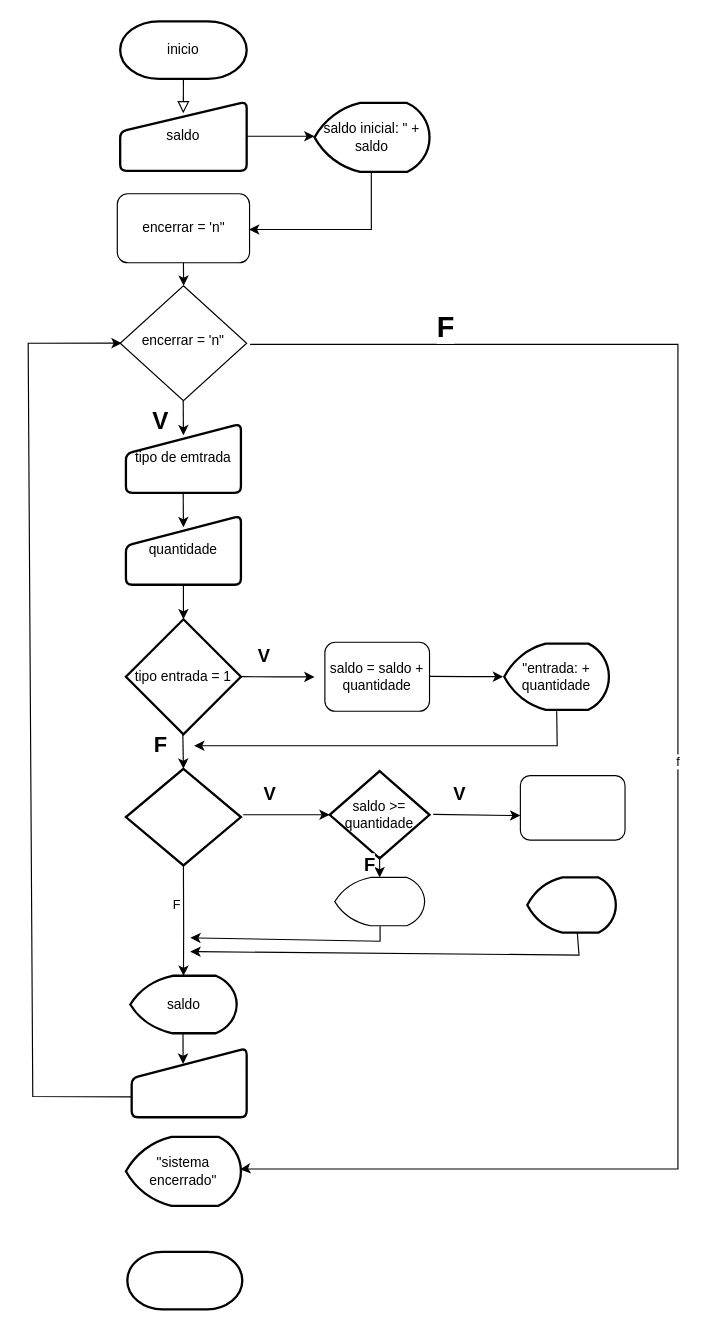
Image size: 707x1329. Some labels were removed from this diagram. The centre of each missing label's shape, as x and y in pixels:
"saida: + quantidade: (x=571, y=904)
"saldo insuficiente": (x=379, y=901)
encerrar? (s/n): (x=188, y=1082)
fim: (x=184, y=1280)
saldo = saldo - quantidade: (x=572, y=807)
tipo entrada = 2: (x=182, y=816)
